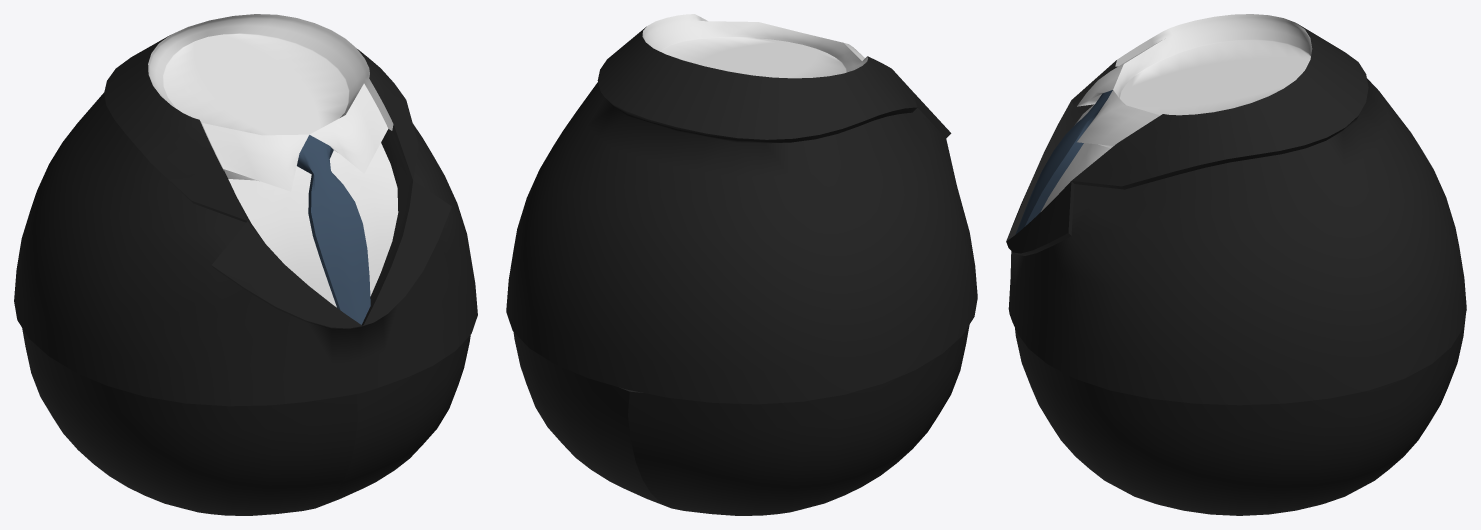
3 views of the same model, side by side, from view 1: azimuth 30°, elevation 25°; view 2: azimuth 150°, elevation 25°; view 3: azimuth 270°, elevation 25° (orthographic).
Parts seen in each view (by area): view 1: suit; view 2: suit; view 3: suit.
Part boxes in pixels (box(x1,y1,x2,y2)): suit: box(14, 14, 477, 515); suit: box(506, 14, 977, 515); suit: box(1006, 14, 1466, 515).
Bounding box in the file's own units: 1.4 × 1.5 × 1.42.
